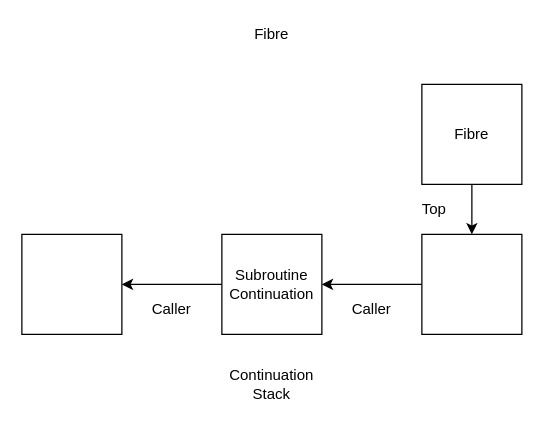
Some shapes in this 544 by 424 pixel diagram are drawn without their labels. Here are the shapes that lost their labels. From the top down, the centre of each, then its label:
At [71,283]: "Initial Continuation".
At [471,283]: "Current Continuation".
